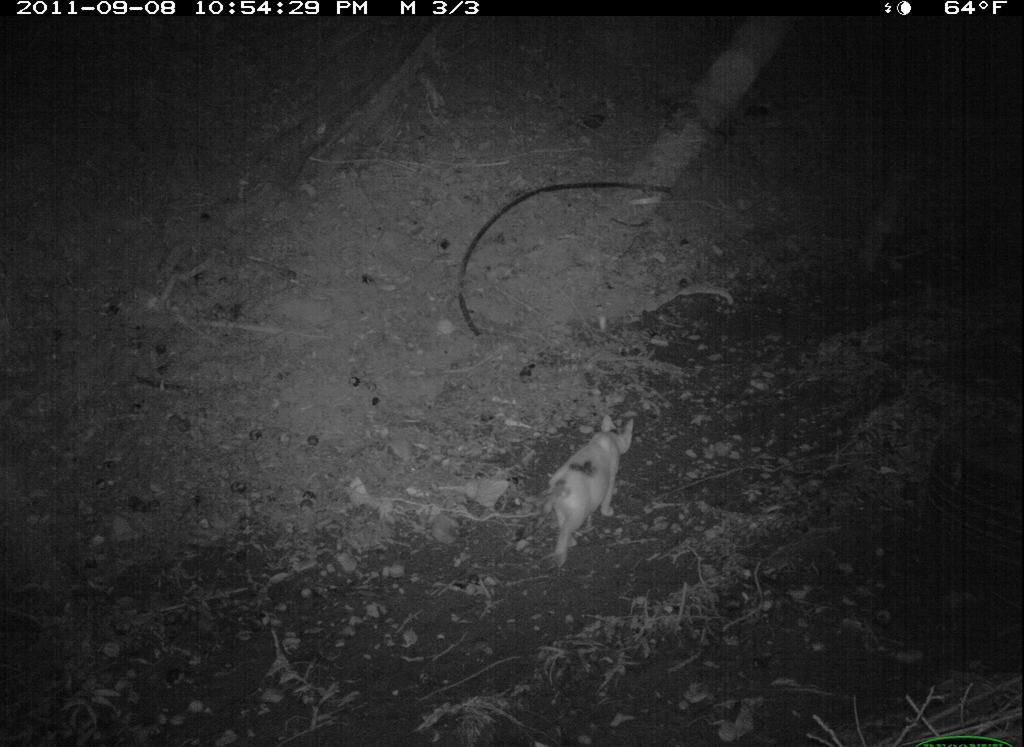cat: (528, 406, 646, 575)
